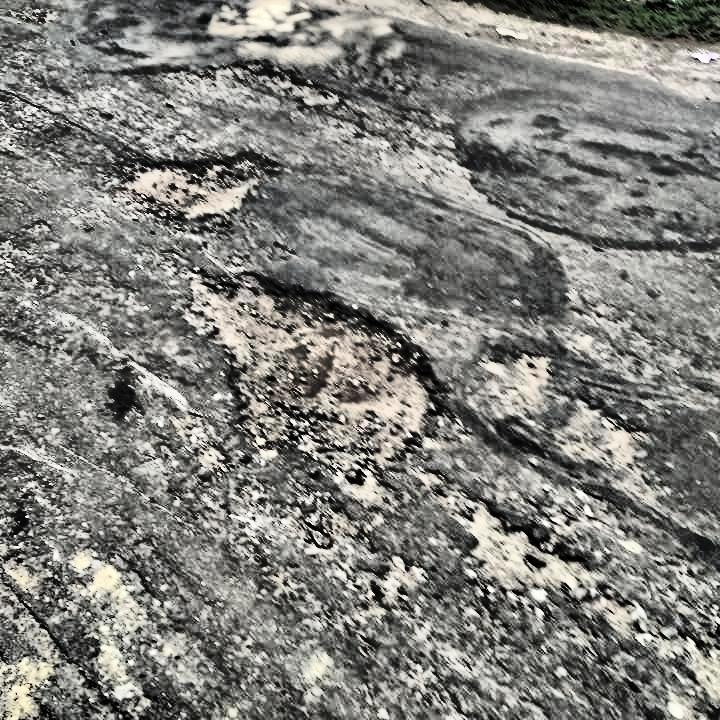pothole: (181, 265, 436, 480), (116, 146, 275, 218), (208, 52, 348, 127)
